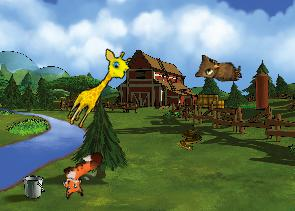fox: (52, 148, 114, 203)
giraffe: (63, 43, 135, 136)
owl: (194, 52, 242, 82)
